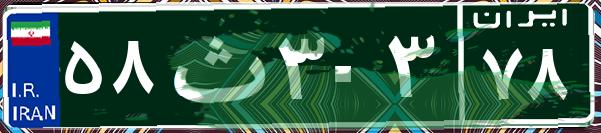0: (330, 28, 385, 110)
3: (385, 28, 445, 110), (273, 28, 330, 110)
5: (57, 26, 110, 107)
7: (475, 38, 525, 113)
8: (110, 28, 158, 105), (525, 38, 570, 115)
ث: (158, 15, 273, 115)
